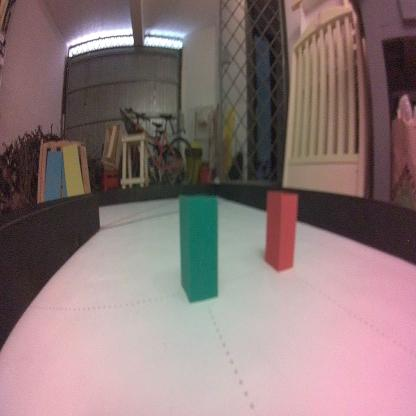green: (178, 190, 220, 306)
red: (263, 188, 299, 273)
